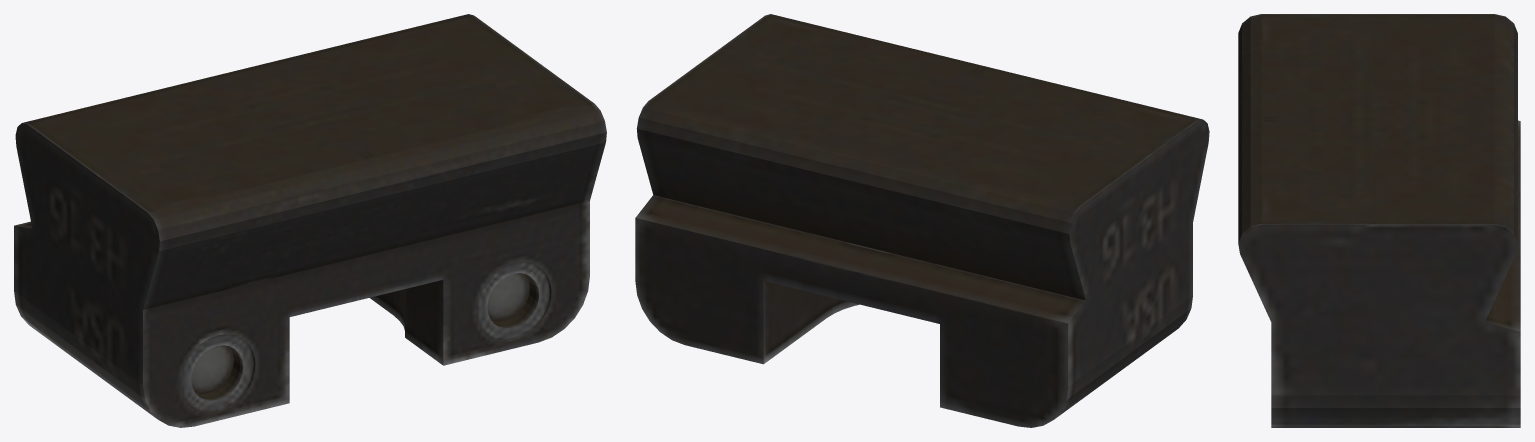
The picture shows the model from 3 angles, left to right: view 1: azimuth 30°, elevation 25°; view 2: azimuth 150°, elevation 25°; view 3: azimuth 270°, elevation 25°; orthographic projection. The views are drawn at different scales.
Parts seen in each view (by area): view 1: TW_5cadd940ae9215051e1c2316_PZ_Import; view 2: TW_5cadd940ae9215051e1c2316_PZ_Import; view 3: TW_5cadd940ae9215051e1c2316_PZ_Import.
Boxes of the visible parts, left/top/right/bottom form: TW_5cadd940ae9215051e1c2316_PZ_Import: left=14, top=14, right=606, bottom=427; TW_5cadd940ae9215051e1c2316_PZ_Import: left=635, top=14, right=1209, bottom=427; TW_5cadd940ae9215051e1c2316_PZ_Import: left=1238, top=14, right=1520, bottom=427.
Bounding box in the file's own units: 0.00809 × 0.00458 × 0.00398.
1 material, 1 textured.
